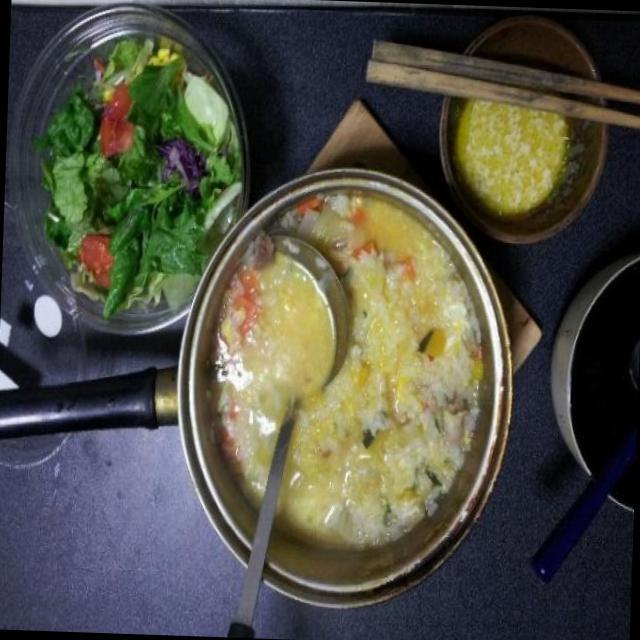Green Salad: (40, 54, 234, 310)
